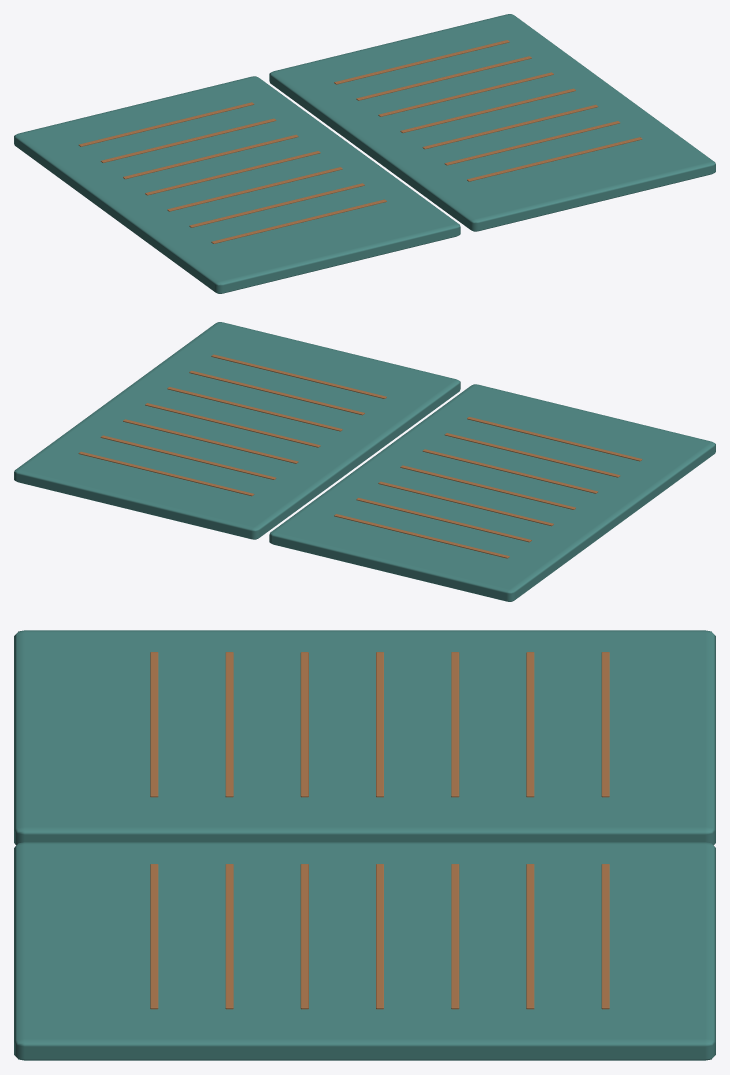
The model's file is wp-cahier-ouvert.glb.
3 views of the same model, one above another, from view 1: azimuth 30°, elevation 25°; view 2: azimuth 150°, elevation 25°; view 3: azimuth 270°, elevation 25° (orthographic). The views are drawn at different scales.
Parts seen in each view (by area): view 1: wp-cahier-ouvert; view 2: wp-cahier-ouvert; view 3: wp-cahier-ouvert.
Part boxes in pixels (box(x1,y1,x2,y2)): wp-cahier-ouvert: box(14, 14, 715, 293); wp-cahier-ouvert: box(14, 322, 715, 601); wp-cahier-ouvert: box(14, 630, 715, 1060).
Bounding box in the file's own units: 0.42 × 0.012 × 0.3.
